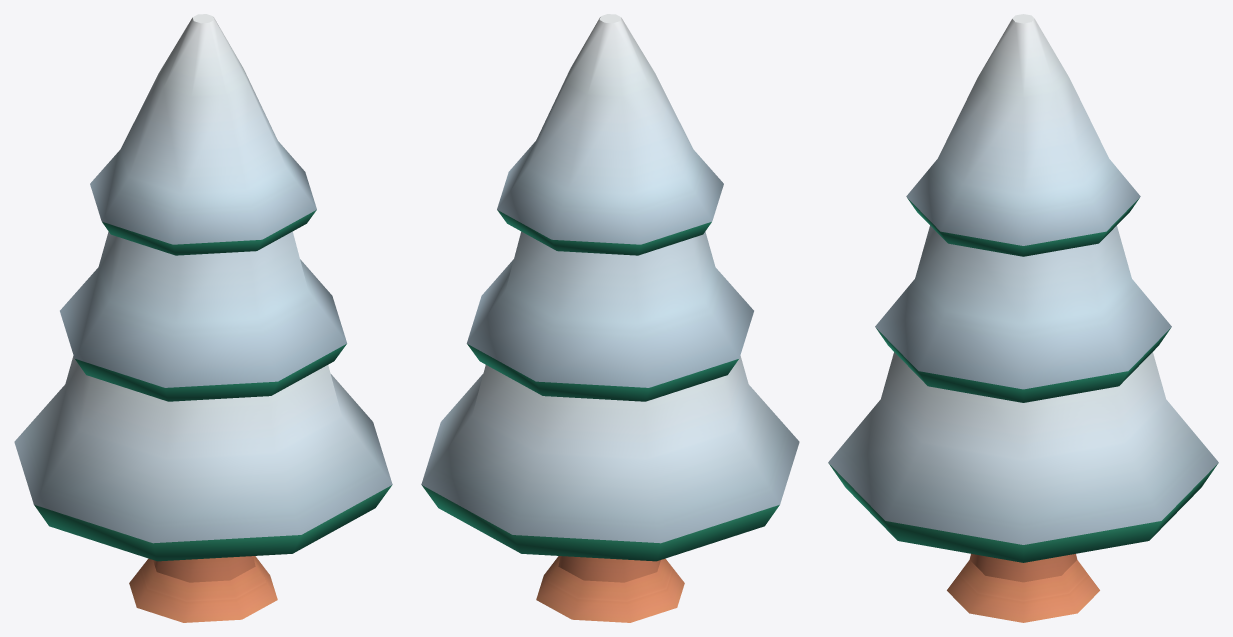
The model's file is kenney-holiday-tree-snow-c.glb.
3 renders of one model, left to right at view 1: azimuth 30°, elevation 25°; view 2: azimuth 150°, elevation 25°; view 3: azimuth 270°, elevation 25°, orthographic.
Visible parts, largest first — view 1: tree-snow-c; view 2: tree-snow-c; view 3: tree-snow-c.
Part boxes in pixels (x1,y1,x2,y2): tree-snow-c: (14,14,392,622); tree-snow-c: (421,14,799,622); tree-snow-c: (828,14,1218,622).
Bounding box in the file's own units: 1.19 × 1.92 × 1.19.
Materials: 1 (1 with a texture image).
